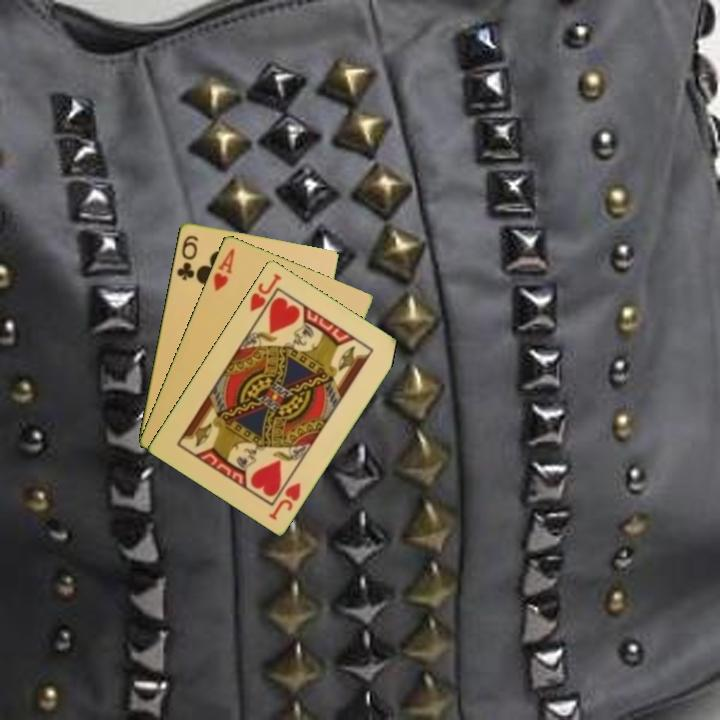6c: (173, 231, 201, 283)
Ah: (209, 244, 238, 294)
Jh: (265, 478, 304, 523), (246, 269, 284, 315)
